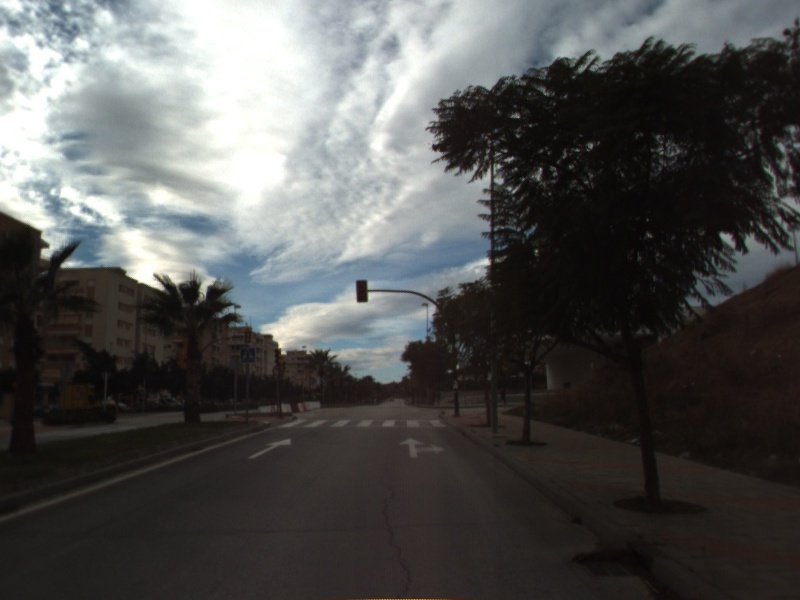STRAIGHT: (246, 437, 293, 461)
STRAIGHT_RIGHT: (397, 436, 446, 460)
